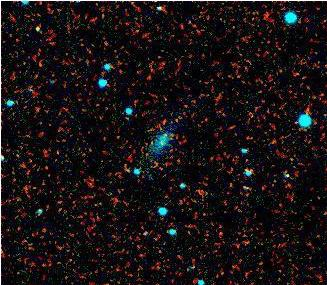star: (26, 12, 56, 42)
